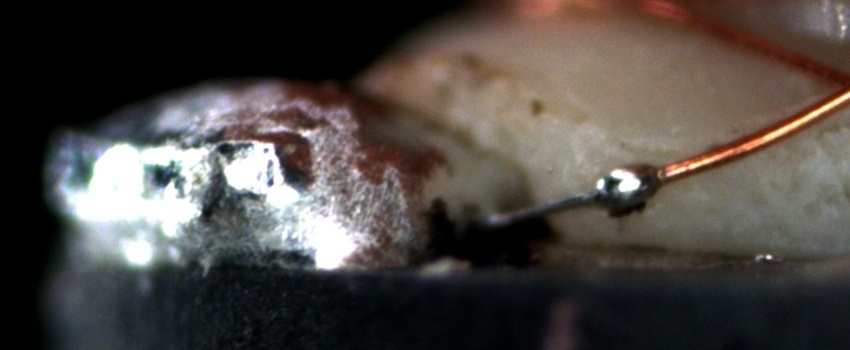CL: (805, 53, 849, 117)
DL: (611, 132, 708, 173)
TB: (583, 165, 663, 218)
TS: (481, 166, 660, 228)
TTCW: (486, 149, 719, 236)
